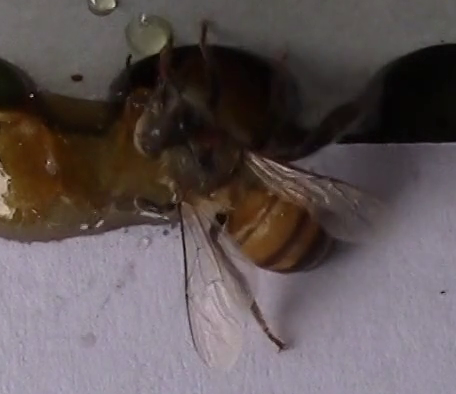Healthy: (121, 16, 402, 369)
